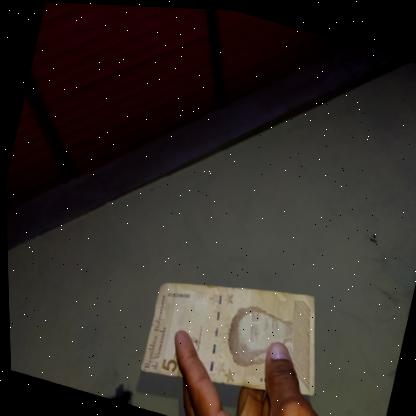five-front-vef: (133, 250, 336, 416)
